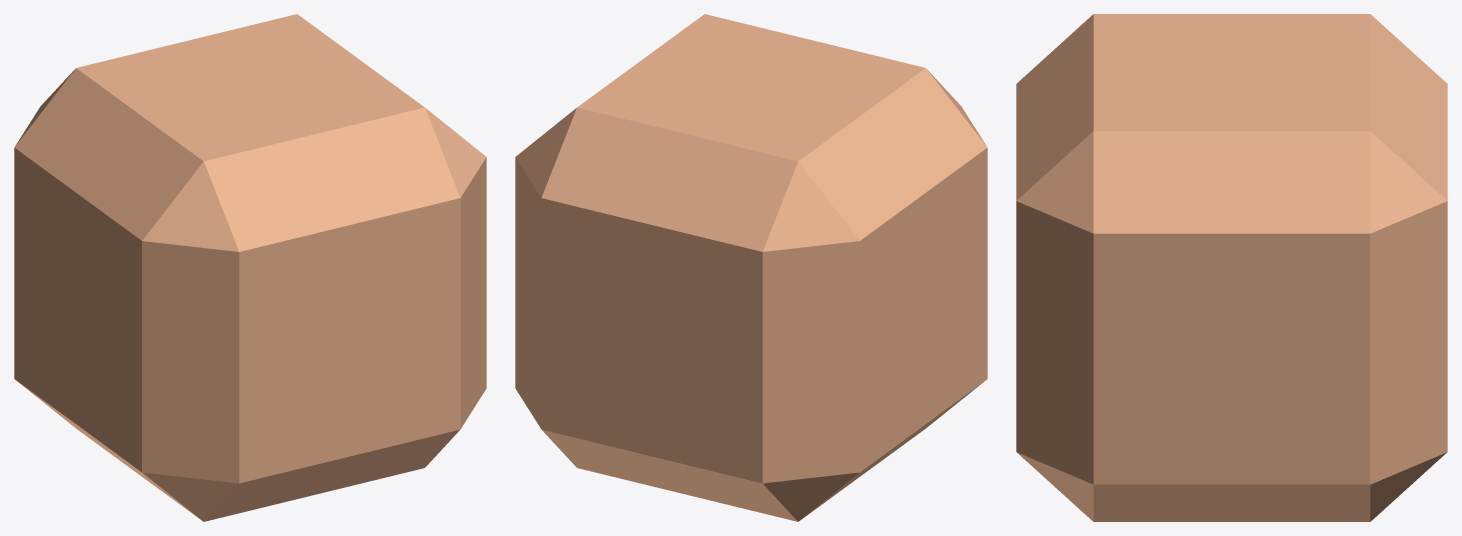
Rendered from Default Head.fbx.
The picture shows the model from 3 angles, left to right: view 1: azimuth 30°, elevation 25°; view 2: azimuth 150°, elevation 25°; view 3: azimuth 270°, elevation 25°; orthographic projection. The views are drawn at different scales.
Parts seen in each view (by area): view 1: Box002; view 2: Box002; view 3: Box002.
Boxes of the visible parts, left/top/right/bottom form: Box002: left=14, top=14, right=486, bottom=521; Box002: left=515, top=14, right=987, bottom=521; Box002: left=1016, top=14, right=1447, bottom=521.
Size of the model in its own units: 13.78 by 13.78 by 13.78.
